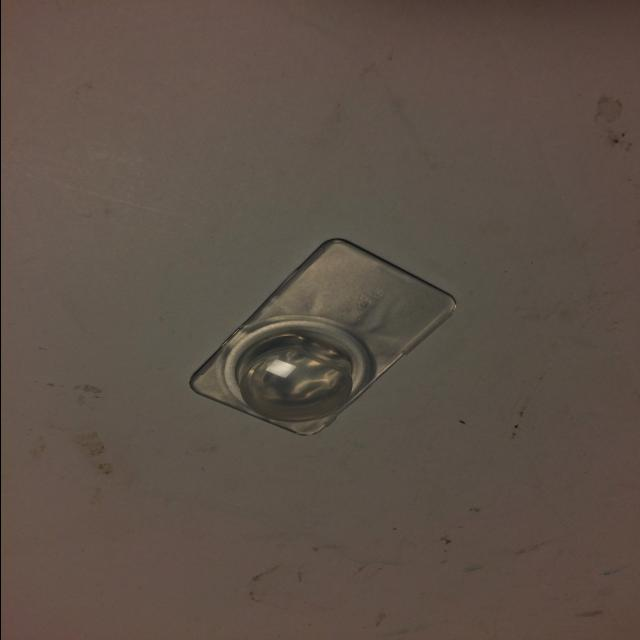Plastic: (161, 221, 461, 458)
